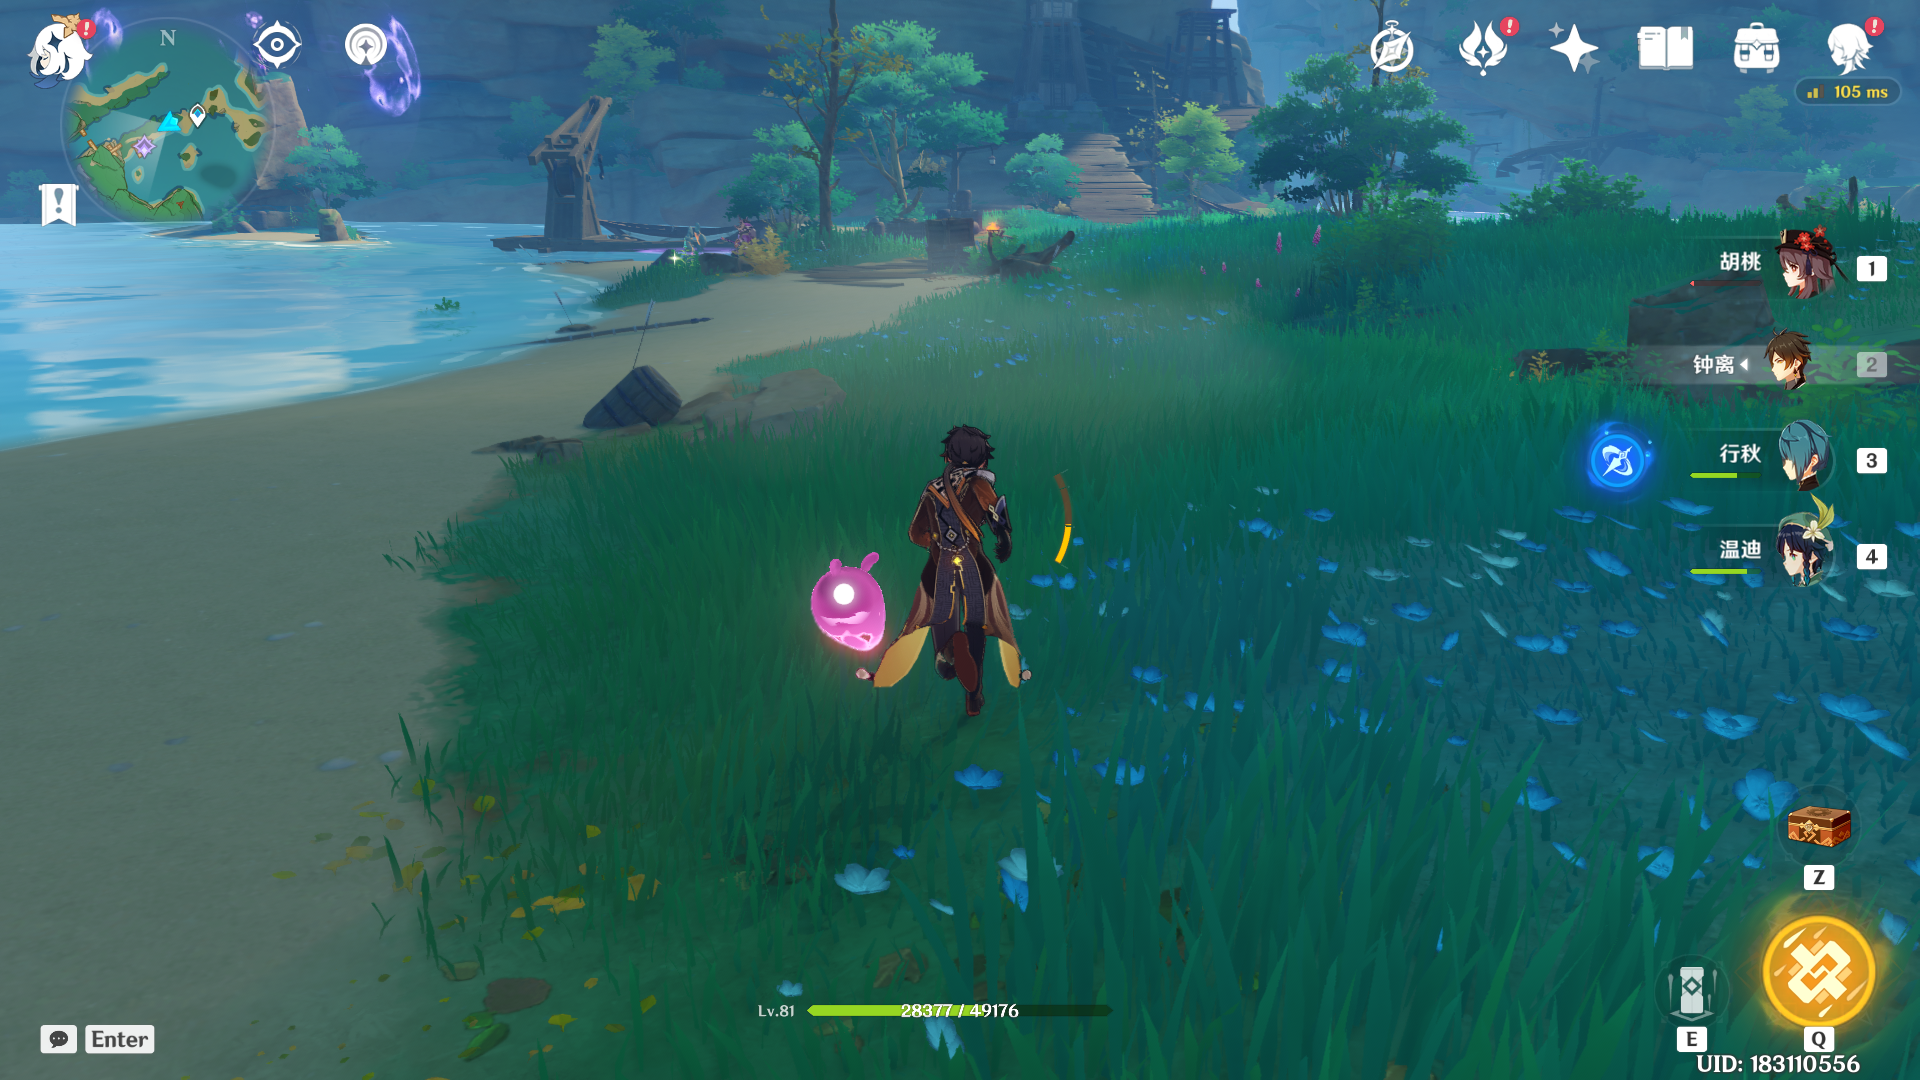character: (855, 394, 1069, 750)
